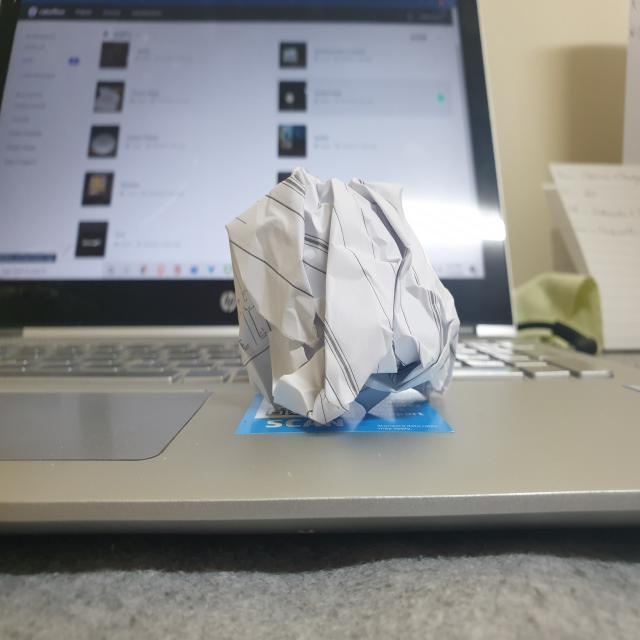Paper: (224, 171, 458, 425)
